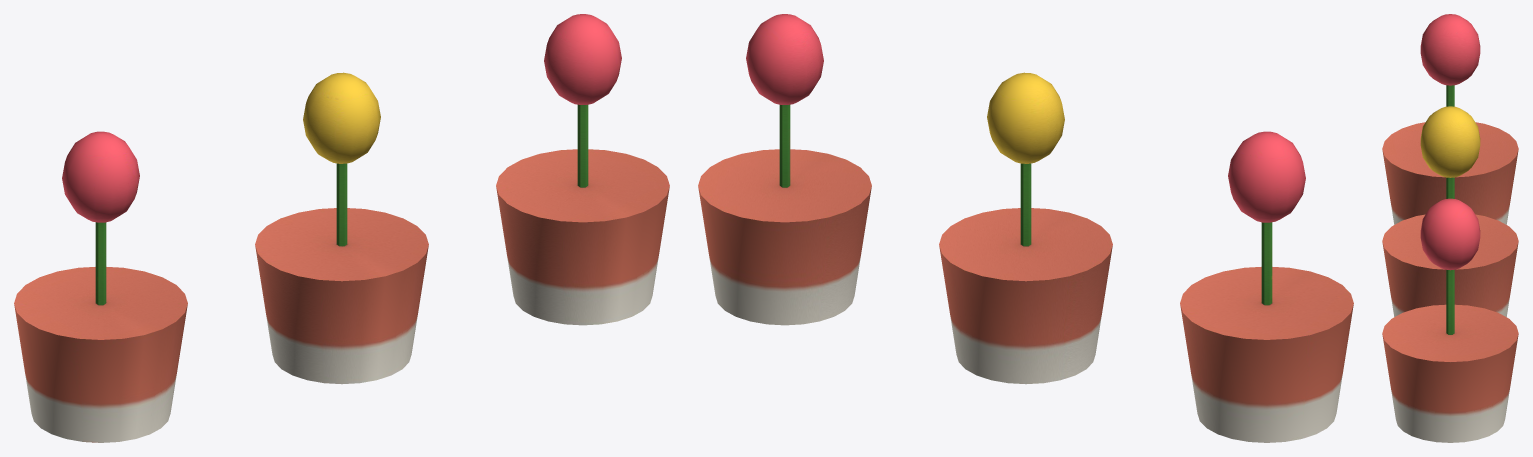
Rendered from flower_pot_row.glb.
The picture shows the model from 3 angles, left to right: view 1: azimuth 30°, elevation 25°; view 2: azimuth 150°, elevation 25°; view 3: azimuth 270°, elevation 25°; orthographic projection. The views are drawn at different scales.
Visible parts, largest first — view 1: flower_pot_row; view 2: flower_pot_row; view 3: flower_pot_row.
Boxes of the visible parts, x1,y1,x2,y2 form: flower_pot_row: (14, 14, 669, 442); flower_pot_row: (698, 14, 1353, 442); flower_pot_row: (1382, 14, 1518, 442).
Size of the model in its own units: 0.84 by 0.354 by 0.2.
Materials: 1 (1 with a texture image).
